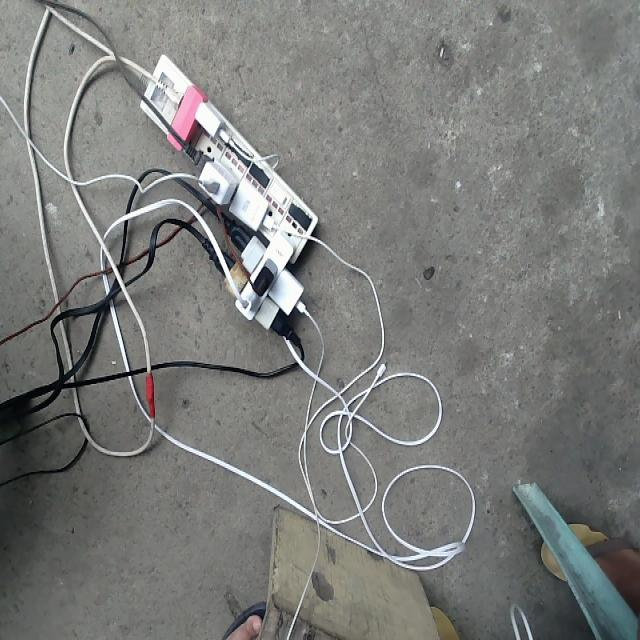-: (142, 53, 318, 332)
